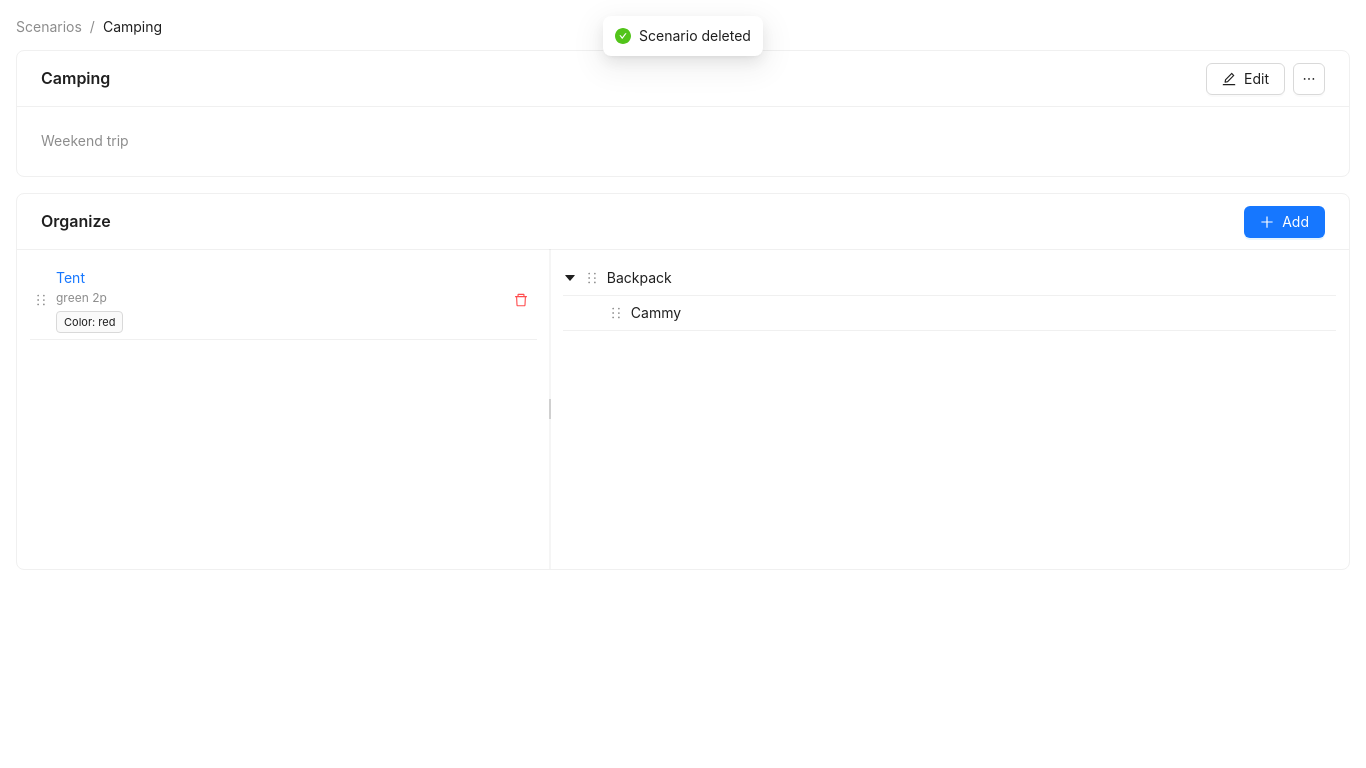
Scenario: ScenarioDetailPage (iteration 18 — actions, rich rows, dnd-kit panes) › collapses and expands a container subtree via the caret
This screenshot has width=1366, height=768.
Expected: the button with test id "org-row-l-cam" is shown, x1=563 y1=296 x2=1336 y2=331
Click the element named "toggle-children" at {"x": 570, "y": 278}, box x1=563 y1=271 x2=577 y2=285
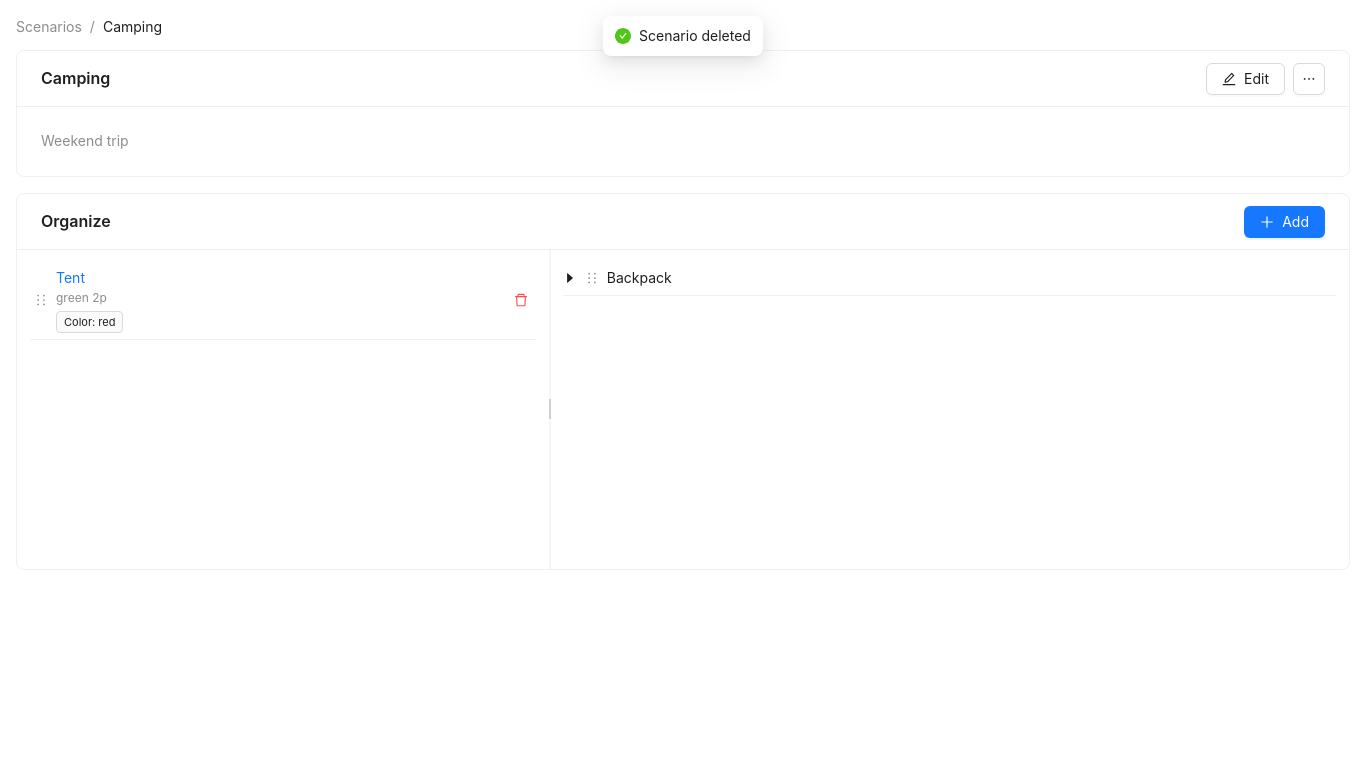
Now the button with test id "org-row-l-cam" is gone
Click the element named "toggle-children" at {"x": 570, "y": 278}, box x1=563 y1=271 x2=577 y2=285
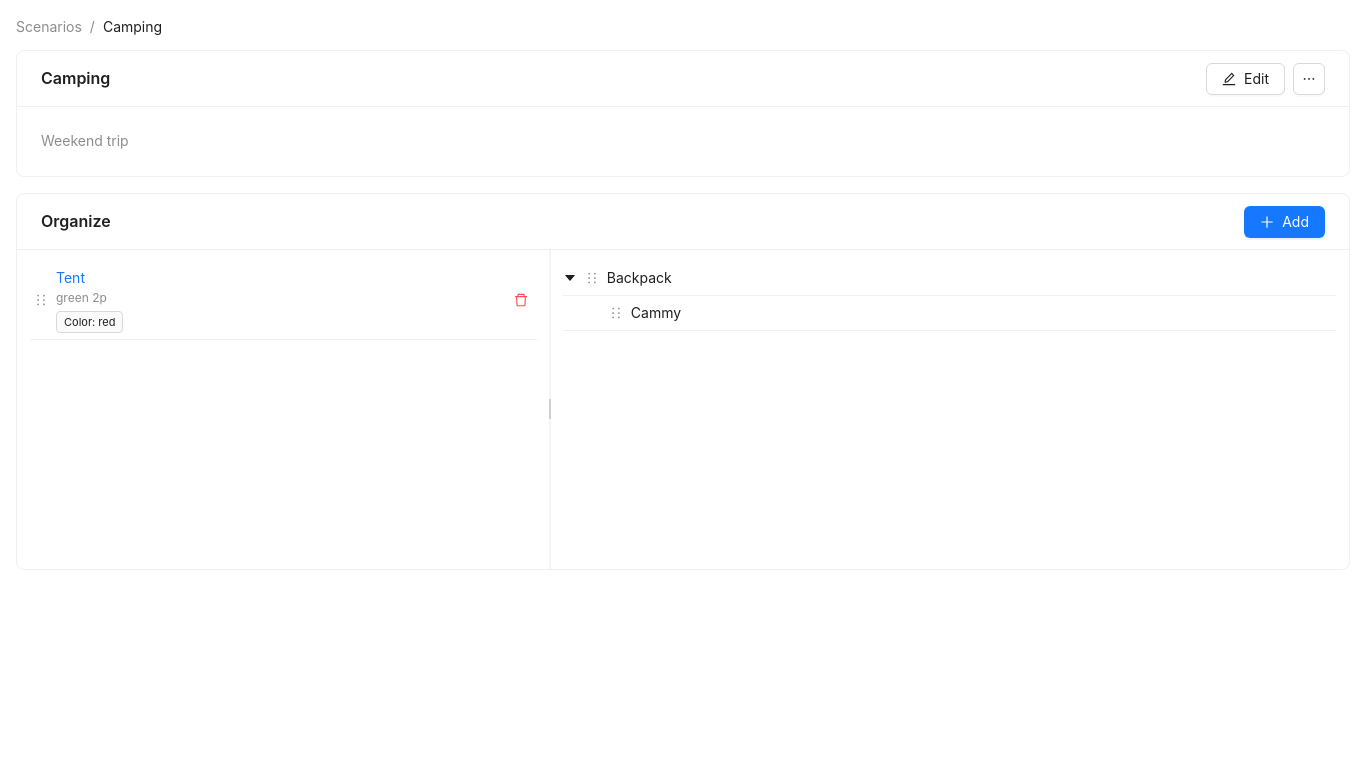
Now the button with test id "org-row-l-cam" is shown, box x1=563 y1=296 x2=1336 y2=331
